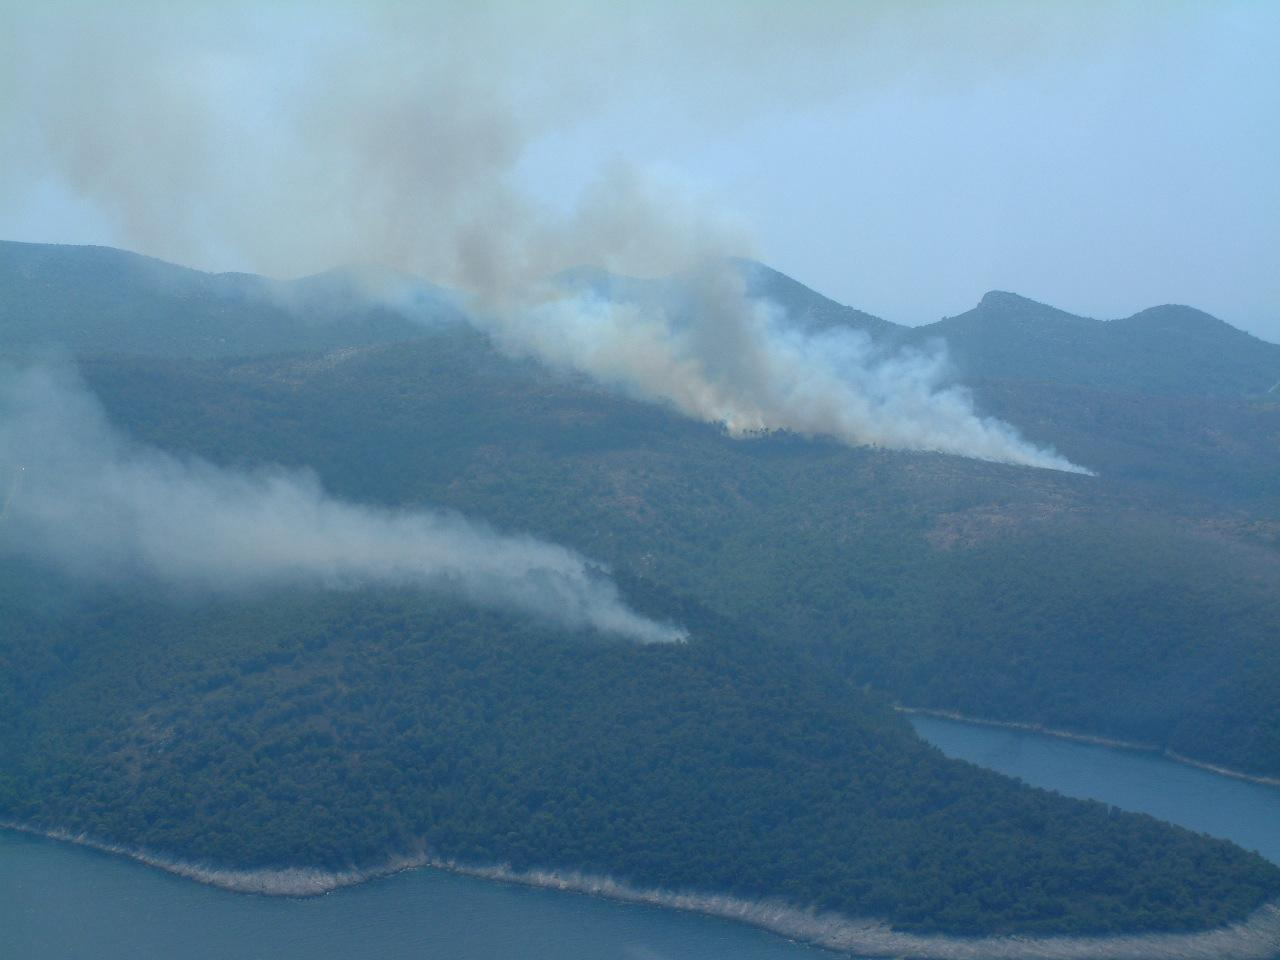Smoke: (6, 5, 1105, 484), (5, 333, 690, 653)
